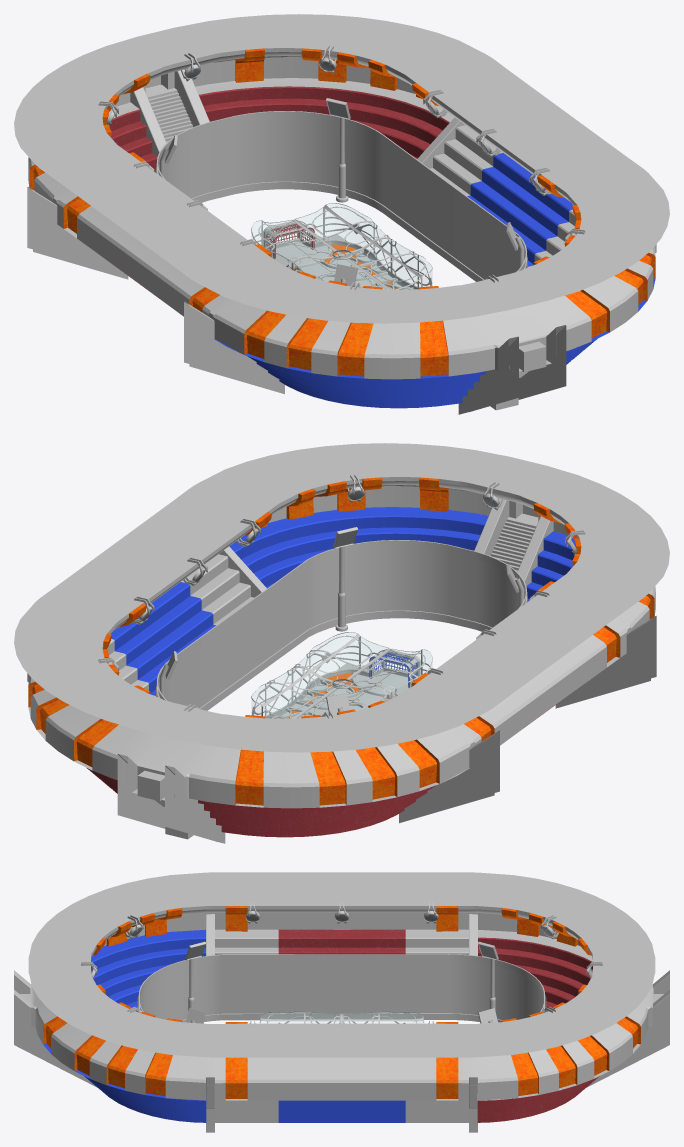
The model's file is Arena_1vs1_New.fbx.
The picture shows the model from 3 angles, top to bottom: view 1: azimuth 30°, elevation 25°; view 2: azimuth 150°, elevation 25°; view 3: azimuth 270°, elevation 25°; orthographic projection. The views are drawn at different scales.
Parts seen in each view (by area): view 1: Exterior, Top, Floor, Light, Walls, Door_Red; view 2: Exterior, Top, Floor, Light, Walls, Door_Blue; view 3: Exterior, Light, Top.
Boxes of the visible parts, x1,y1,x2,y2 form: Exterior: (14, 14, 669, 414); Top: (251, 203, 432, 289); Floor: (272, 233, 413, 289); Light: (98, 45, 585, 290); Walls: (252, 207, 432, 289); Door_Red: (263, 220, 314, 259); Exterior: (14, 443, 669, 843); Top: (251, 632, 432, 718); Floor: (270, 662, 411, 718); Light: (98, 474, 585, 719); Walls: (251, 636, 431, 718); Door_Blue: (369, 649, 420, 688); Exterior: (14, 872, 669, 1132); Light: (81, 900, 602, 1027); Top: (259, 1011, 424, 1023).
Size of what is drawn, in the model's own units: 32403 by 8957 by 46961.
